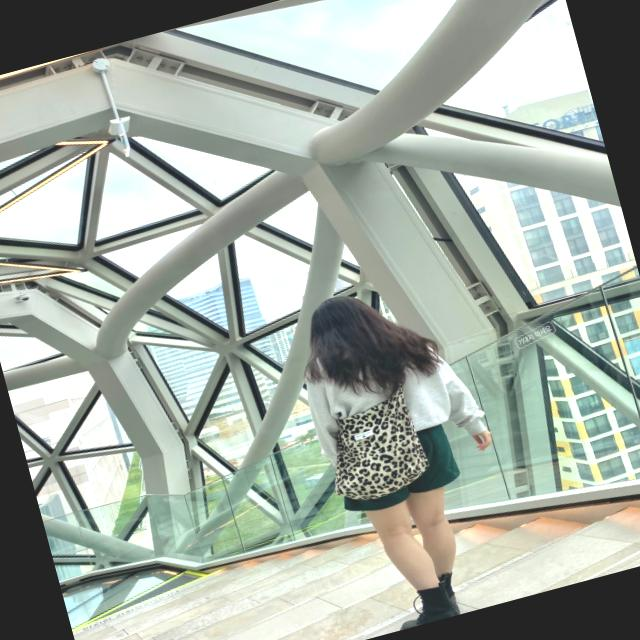mtm: (292, 322, 494, 481)
shortpants: (333, 421, 462, 518)
